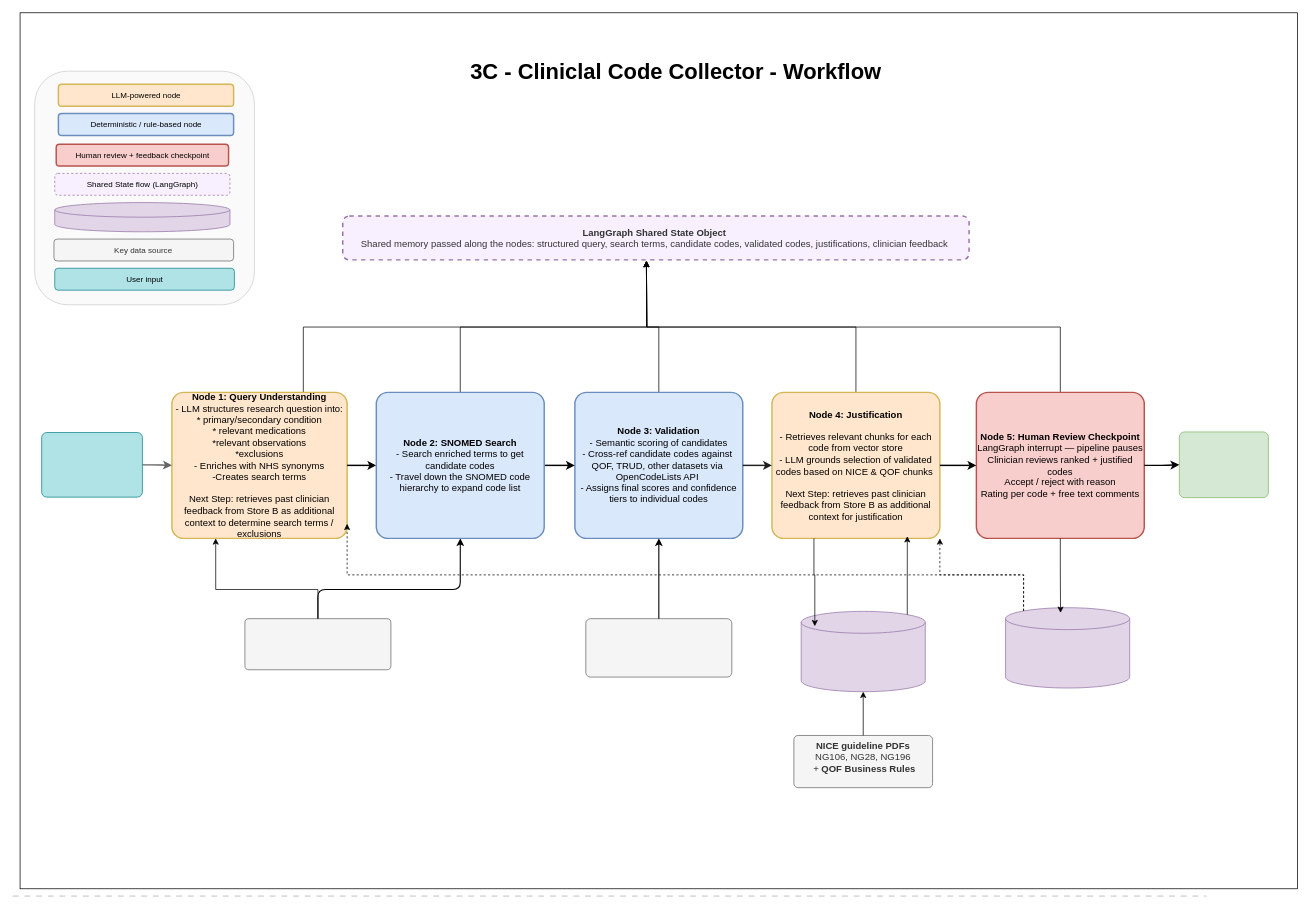
The diagram is 1310 pixels wide and 910 high, and some of its shapes have lost their labels. The centre of each missing label's shape, as x and y in pixels:
Final code list Reliable, explainable, defensible: the point at 1223,464
NHS FHIR Terminology Server Deterministic term and code discovery: the point at 317,644
Research question: e.g. obesity + T2DM Analyst enters via Streamlit UI: the point at 91,464
Validation sources OpenCodelists API NHS TRUD datasets: the point at 658,647
Vector Store: the point at 142,217
Vector Store A NICE + QOF guideline embeddings: the point at 862,651
Vector Store B Human feedback embeddings: the point at 1067,647
